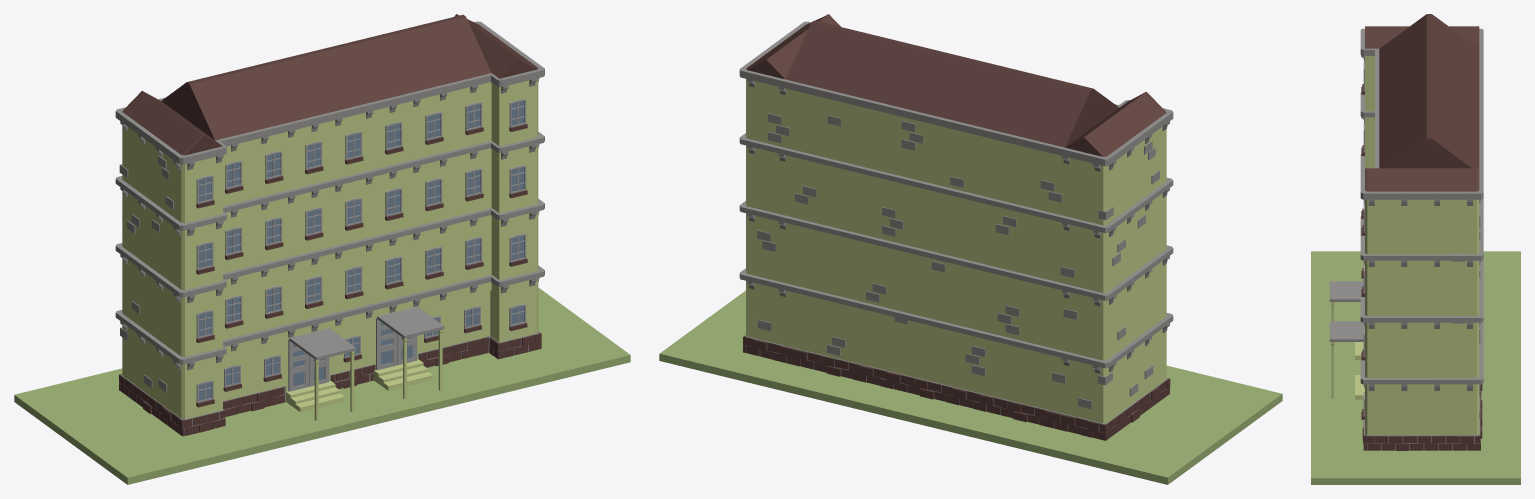
Rendered from OTEL 1.fbx.
3 renders of one model, left to right at view 1: azimuth 30°, elevation 25°; view 2: azimuth 150°, elevation 25°; view 3: azimuth 270°, elevation 25°, orthographic. The views are drawn at different scales.
Parts seen in each view (by area): view 1: 4Story_Wide_2Doors_Roof_Mat, Cube; view 2: 4Story_Wide_2Doors_Roof_Mat, Cube; view 3: 4Story_Wide_2Doors_Roof_Mat, Cube.
Boxes of the visible parts, x1,y1,x2,y2 form: 4Story_Wide_2Doors_Roof_Mat: (115, 14, 544, 436); Cube: (14, 287, 630, 484); 4Story_Wide_2Doors_Roof_Mat: (739, 14, 1173, 440); Cube: (659, 290, 1282, 484); 4Story_Wide_2Doors_Roof_Mat: (1329, 14, 1483, 450); Cube: (1311, 251, 1520, 484).
Size of the model in its own units: 940 by 580 by 367.
